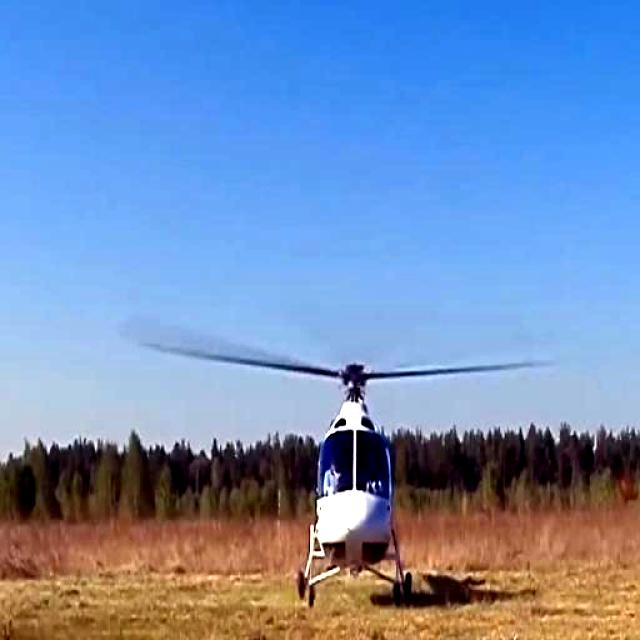drone: (282, 309, 434, 599)
